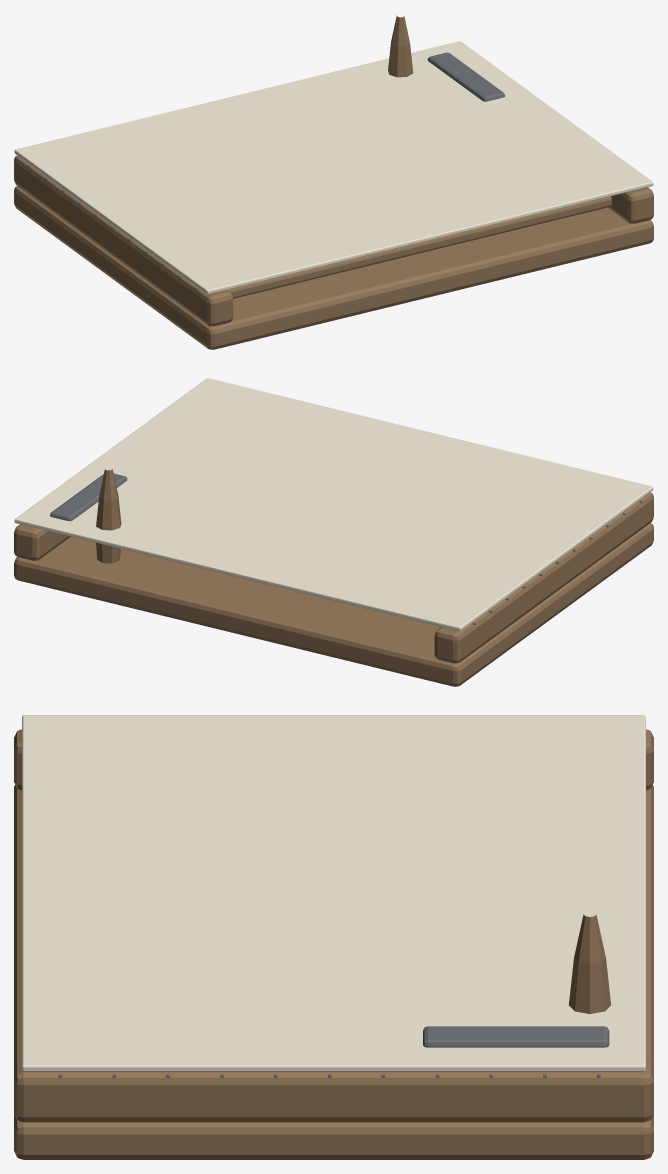
Rendered from ruling_board.glb.
3 views of the same model, one above another, from view 1: azimuth 30°, elevation 25°; view 2: azimuth 150°, elevation 25°; view 3: azimuth 270°, elevation 25° (orthographic). The views are drawn at different scales.
Parts seen in each view (by area): view 1: 093-ruling-board/1, 093-ruling-board/0, 093-ruling-board/2; view 2: 093-ruling-board/1, 093-ruling-board/0, 093-ruling-board/2; view 3: 093-ruling-board/1, 093-ruling-board/0, 093-ruling-board/2.
Boxes of the visible parts, x1,y1,x2,y2 form: 093-ruling-board/1: (14, 41, 653, 294); 093-ruling-board/0: (14, 15, 653, 349); 093-ruling-board/2: (28, 52, 505, 289); 093-ruling-board/1: (14, 378, 653, 631); 093-ruling-board/0: (14, 469, 653, 686); 093-ruling-board/2: (50, 473, 642, 624); 093-ruling-board/1: (22, 715, 645, 1071); 093-ruling-board/0: (14, 729, 653, 1159); 093-ruling-board/2: (58, 1026, 609, 1077).
Bounding box in the file's own units: 2 × 0.5001 × 1.54.
